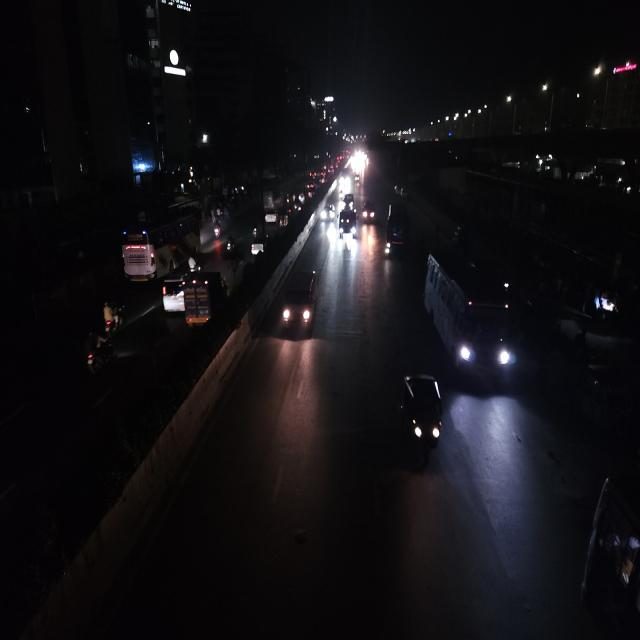bus: (421, 246, 518, 391), (119, 200, 205, 284), (384, 197, 411, 261)
car: (280, 266, 320, 339), (159, 264, 185, 315), (249, 234, 267, 260), (361, 202, 378, 224), (319, 204, 336, 224), (342, 192, 356, 210), (278, 210, 290, 230), (264, 208, 278, 225)
cng: (398, 369, 448, 468)
motorcycle: (82, 327, 116, 381), (99, 298, 127, 340), (224, 235, 236, 258), (212, 218, 224, 241), (251, 221, 259, 238)
truck: (181, 268, 228, 334), (338, 208, 358, 242), (262, 187, 276, 209)
